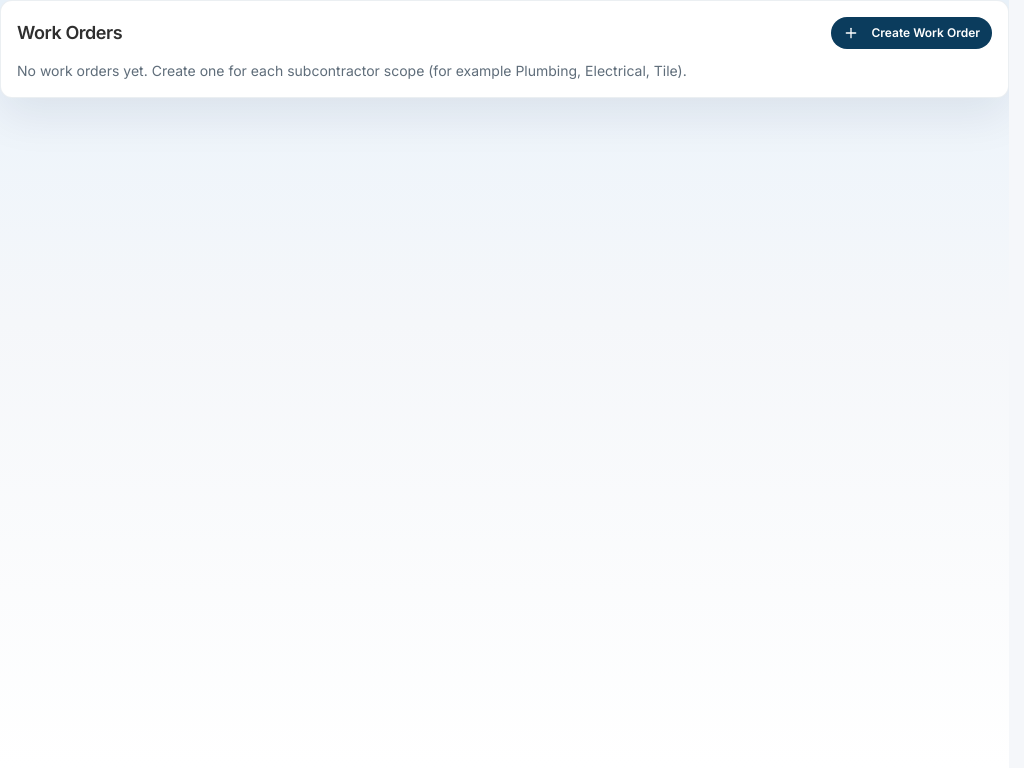
Project Detail: Work Orders section › creates a work order with job site photos and sends it to several subcontractors, with insurance required
Later steps or results of the test are not shown.
Click the button "Create Work Order".
click(912, 33)  # box top-left (832, 17), bottom-right (992, 49)
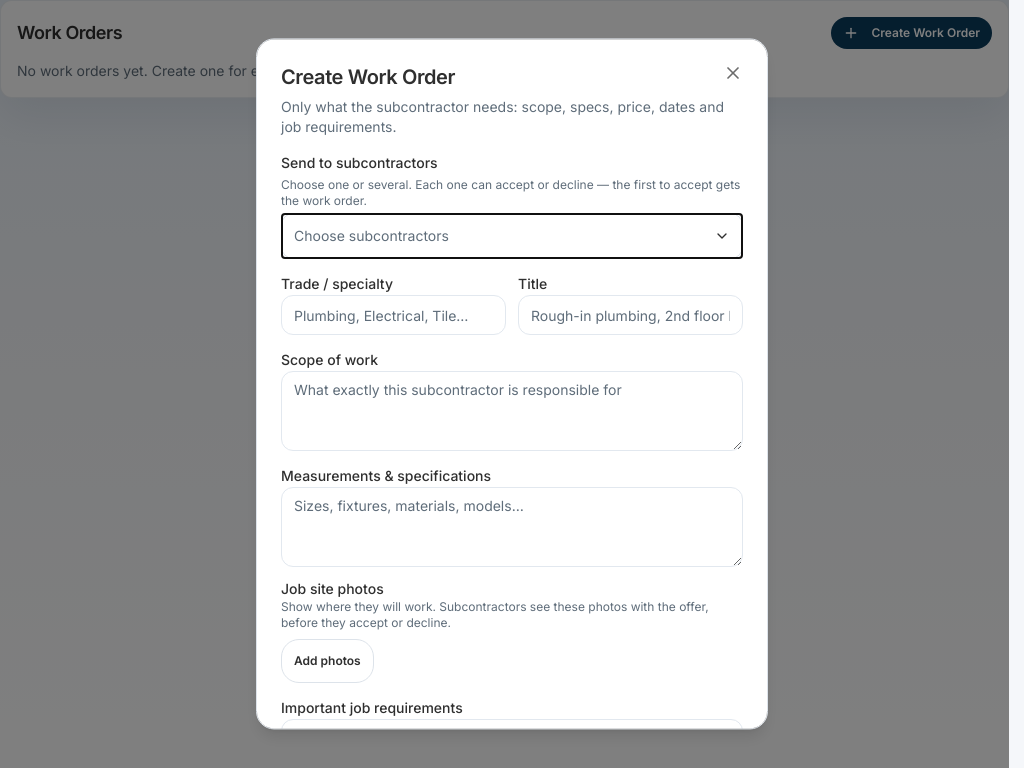
Expected: the field labelled "Ruiz Plumbing" is not shown
Click the button "Choose subcontractors".
click(371, 236)  # box top-left (282, 214), bottom-right (742, 258)
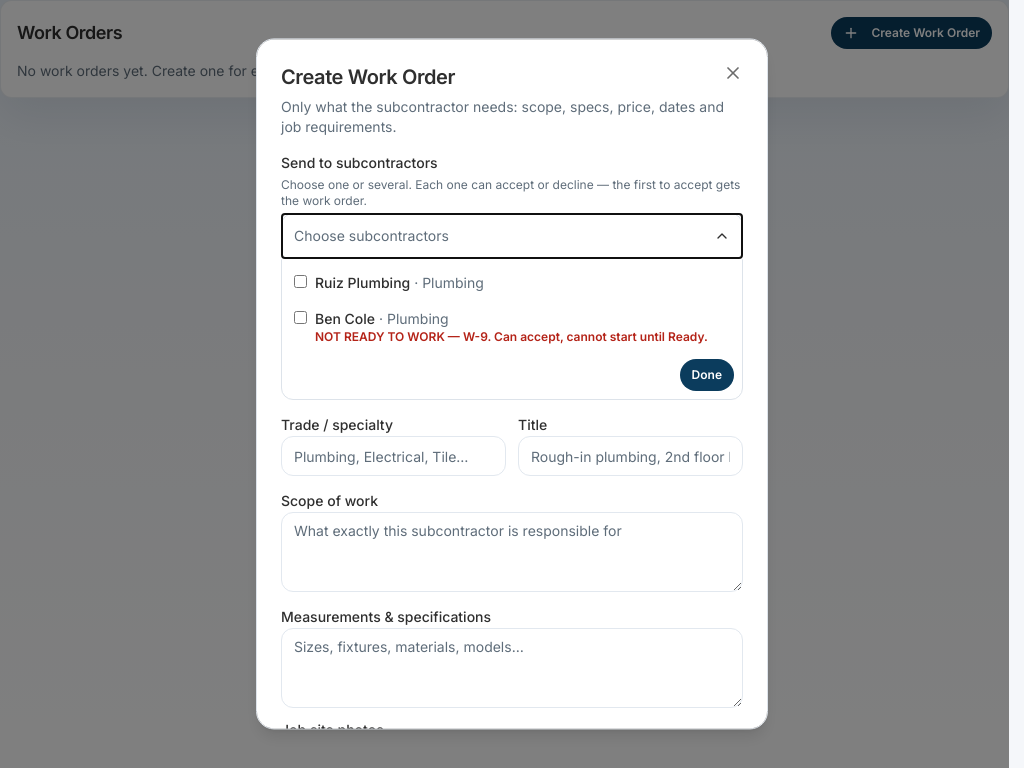
Click the checkbox labelled "Ruiz Plumbing".
click(300, 282)  # box top-left (294, 275), bottom-right (307, 288)
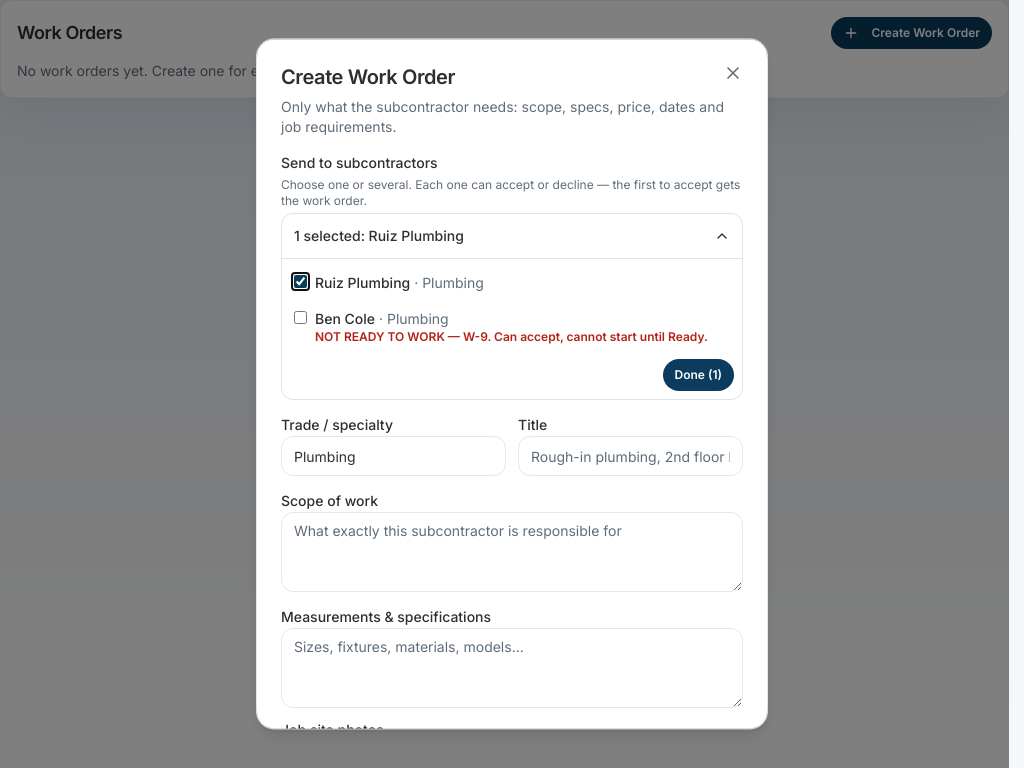
Click the checkbox labelled "Ben Cole".
click(300, 318)  # box top-left (294, 311), bottom-right (307, 324)
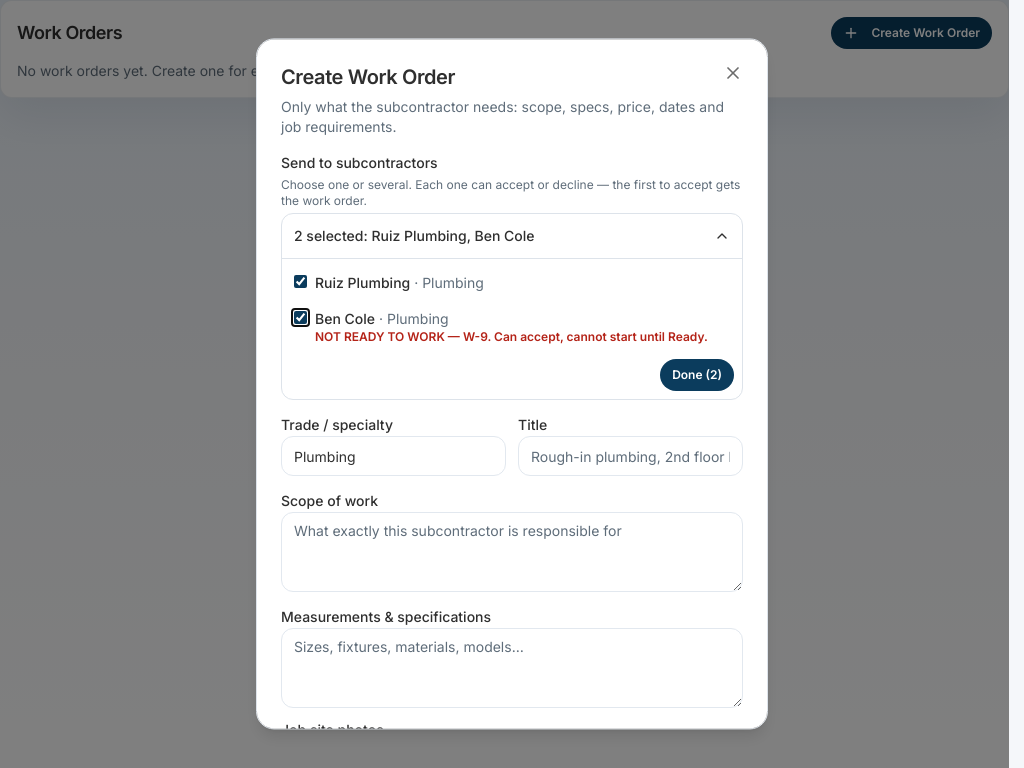
Expected: the text "NOT READY TO WORK — W-9" is shown, top-left (315, 329), bottom-right (708, 345)
Click the button "Done (2)".
click(697, 375)  # box top-left (660, 359), bottom-right (734, 391)
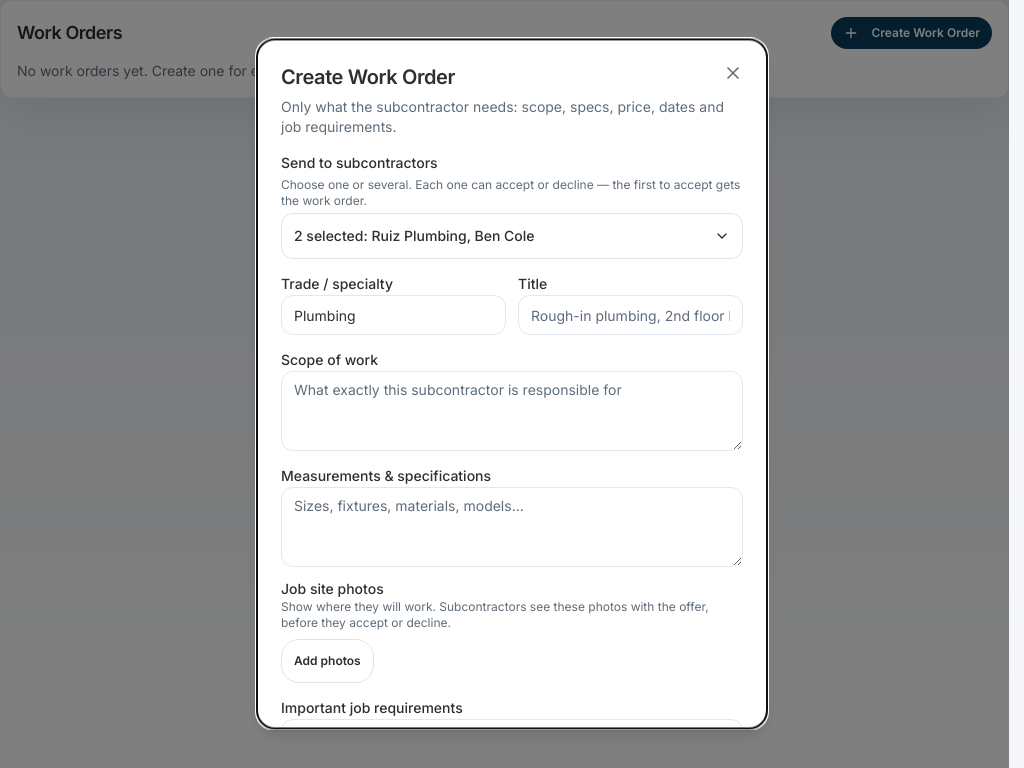
Expected: the field labelled "Trade / specialty" holds "Plumbing", top-left (281, 295), bottom-right (506, 335)
Expected: the button "2 selected: Ruiz Plumbing, Ben Cole" is collapsed, top-left (282, 214), bottom-right (742, 258)
